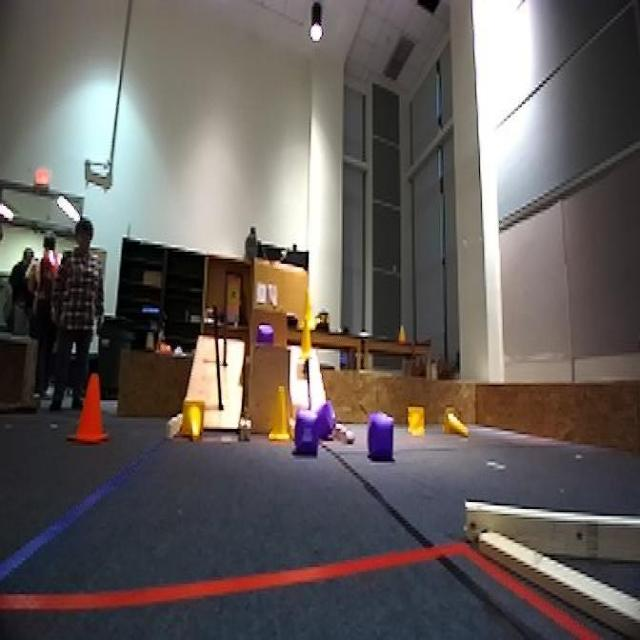frc_cone: (269, 383, 301, 451), (177, 400, 207, 444), (297, 317, 319, 364), (440, 408, 469, 436), (404, 402, 426, 437), (303, 284, 317, 334)
frc_cube: (288, 408, 317, 449), (366, 419, 395, 458), (318, 400, 332, 436), (254, 329, 274, 347)
